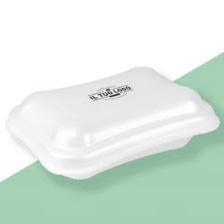foam_box: (0, 61, 224, 183)
